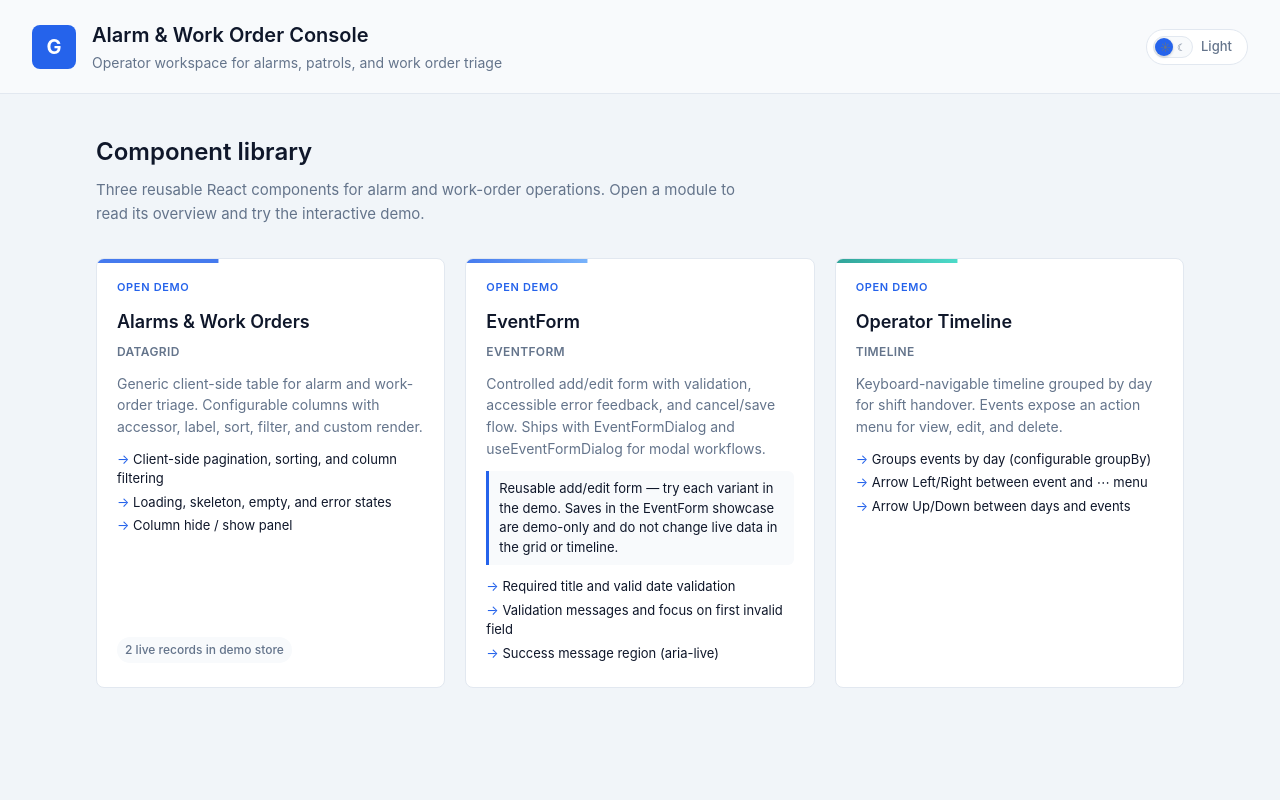
App › switches DataGrid to loading state via demo controls
The image size is (1280, 800).
Expected: the element with class "home__grid" is shown, [96,258,1184,688]
Click the button "Alarms & Work Orders": (271, 473) [96,258,445,688]
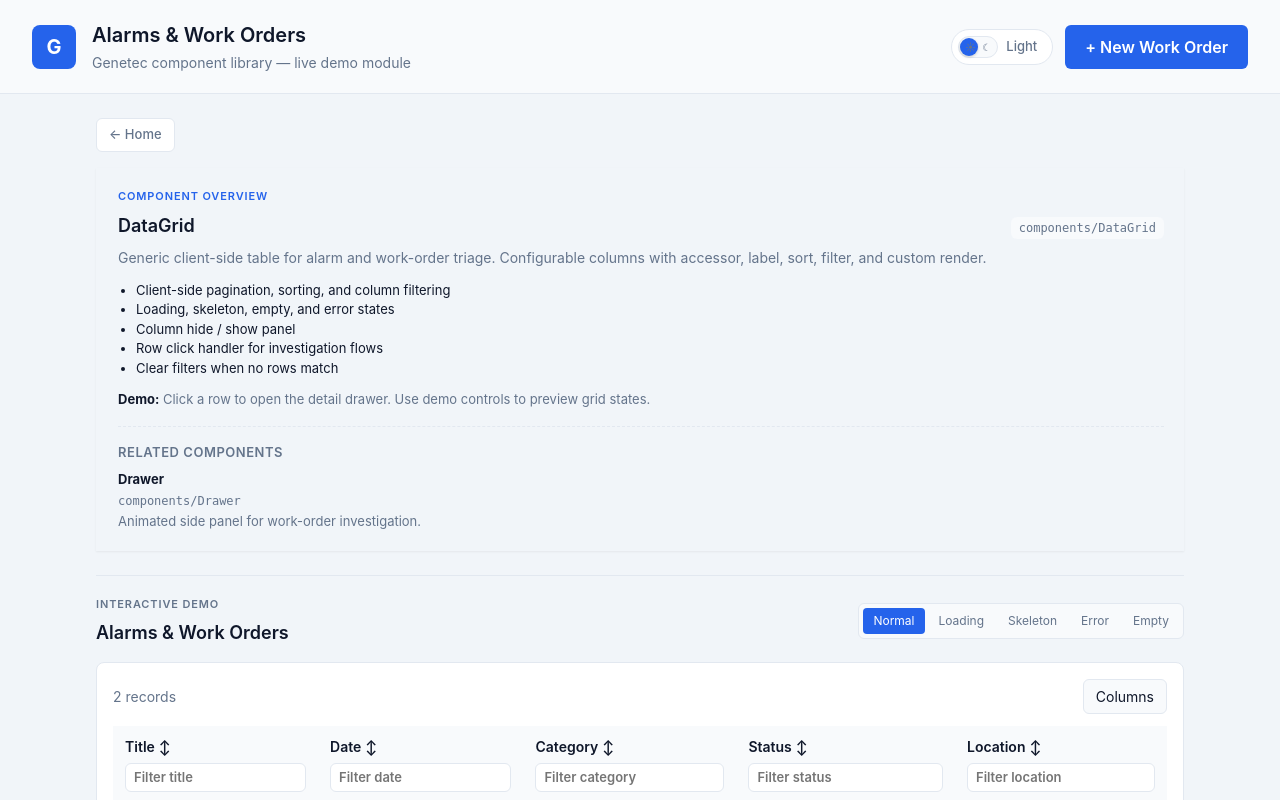
Click the button "loading": (961, 621) [928,608,994,634]
(page scrolled)
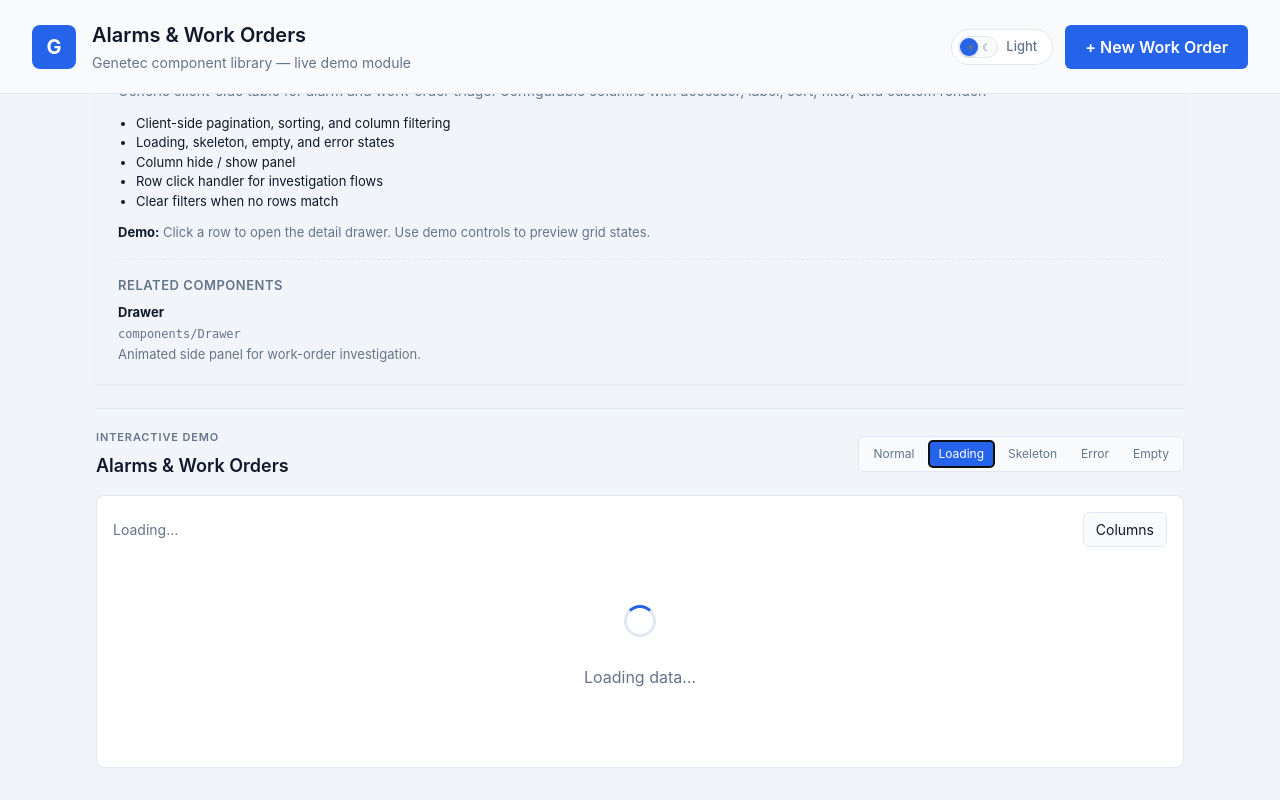
Result: the text "Loading data…" is shown at [584,665,696,689]
